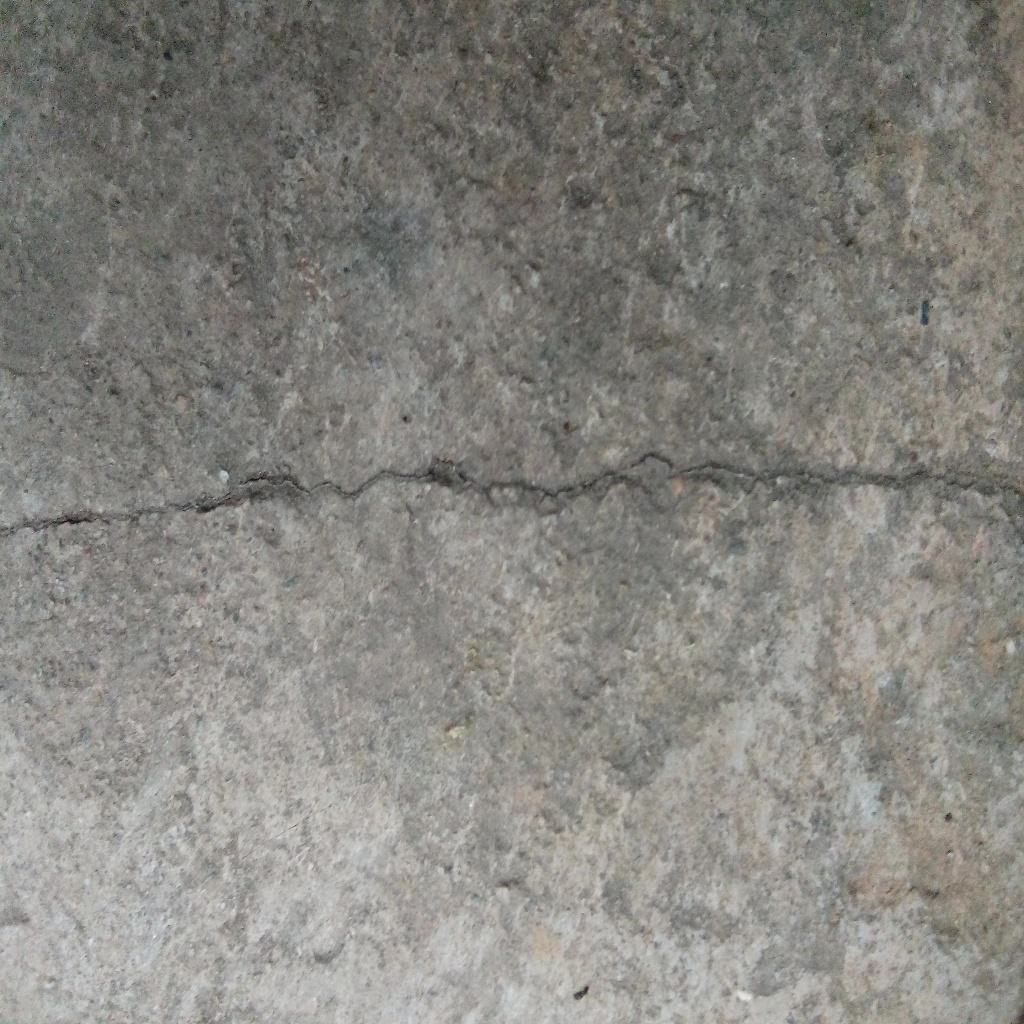Crack: (1, 452, 1024, 537)
